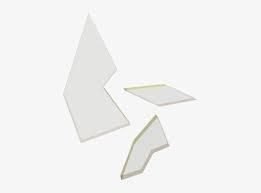glass: (61, 8, 134, 146), (119, 113, 172, 181), (122, 78, 198, 110)
